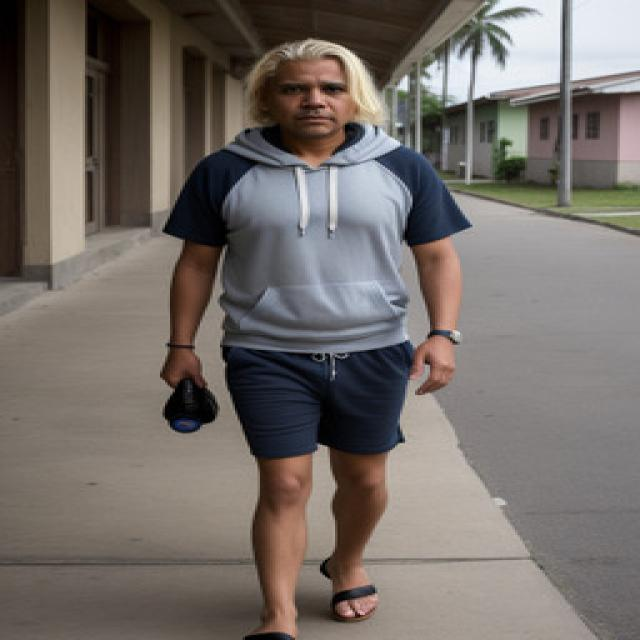Ai human 2: (148, 30, 478, 640)
